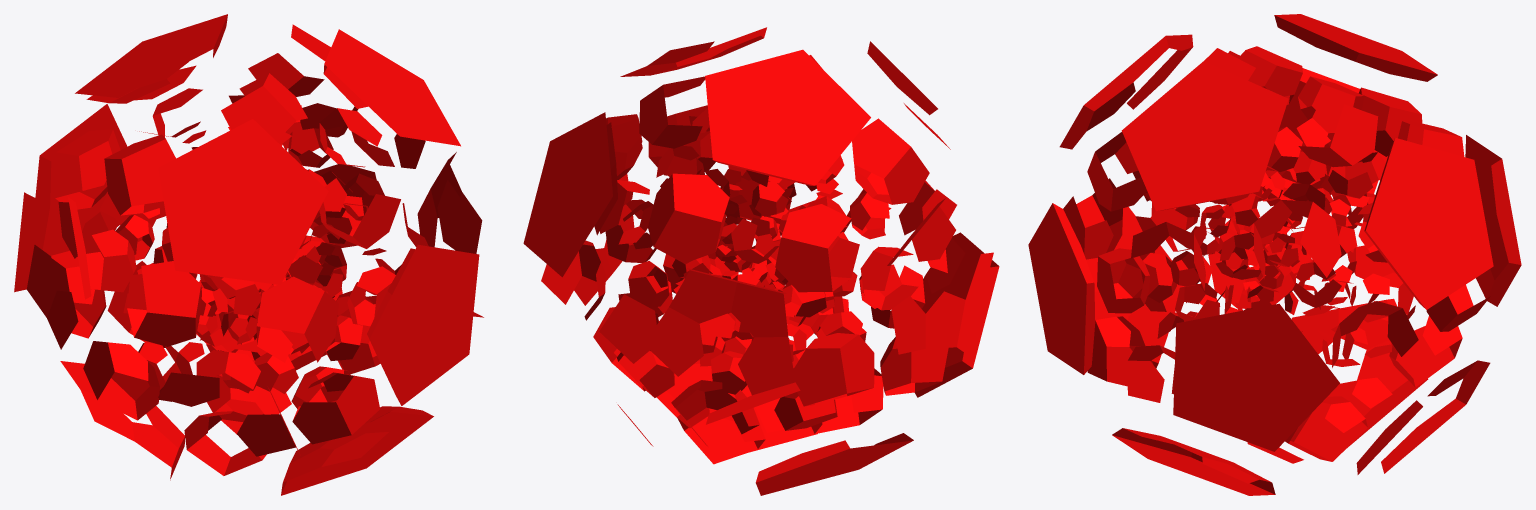
The model's file is Hecatonicosachoron.gltf.
3 views of the same model, side by side, from view 1: azimuth 30°, elevation 25°; view 2: azimuth 150°, elevation 25°; view 3: azimuth 270°, elevation 25° (orthographic).
Visible parts, largest first — view 1: 5-Hi, 120-cell, Hecatonicosachoron; view 2: 5-Hi, 120-cell, Hecatonicosachoron; view 3: 5-Hi, 120-cell, Hecatonicosachoron.
Boxes of the visible parts, x1=… form: 5-Hi, 120-cell, Hecatonicosachoron: x1=14, y1=14, x2=483, y2=495; 5-Hi, 120-cell, Hecatonicosachoron: x1=523, y1=27, x2=999, y2=495; 5-Hi, 120-cell, Hecatonicosachoron: x1=1028, y1=14, x2=1521, y2=495.
Bounding box in the file's own units: 12.57 × 12.69 × 12.93.
